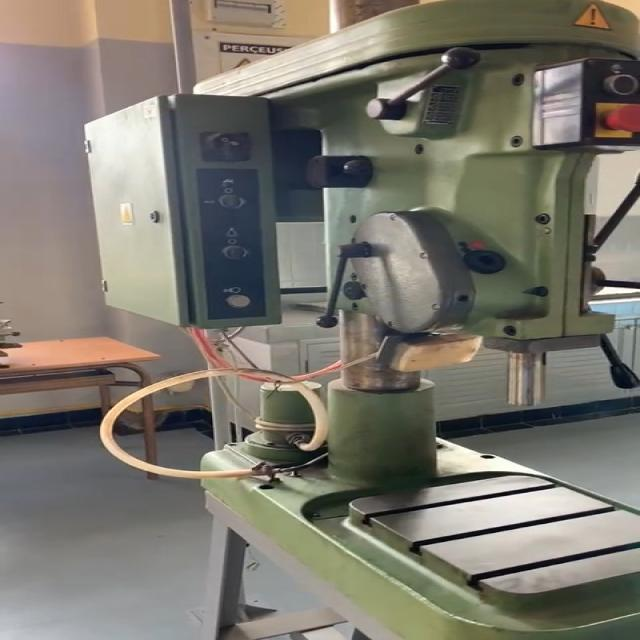perceuse: (83, 0, 640, 640)
